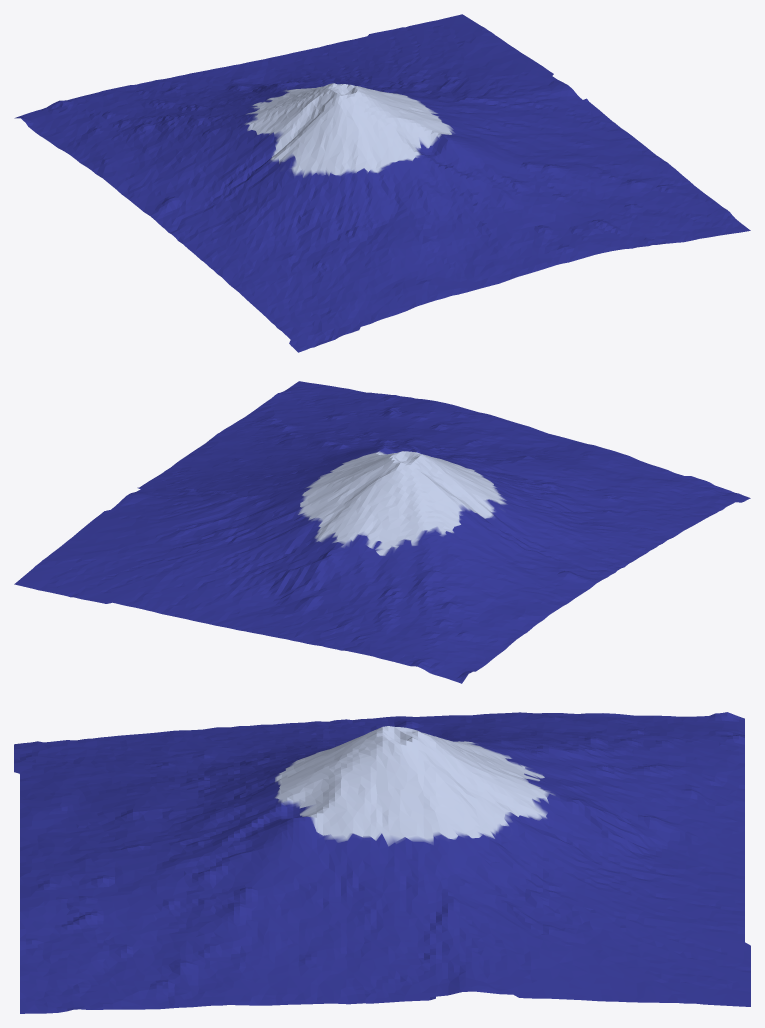
Rendered from mt_fuji.dae.
3 renders of one model, top to bottom at view 1: azimuth 30°, elevation 25°; view 2: azimuth 150°, elevation 25°; view 3: azimuth 270°, elevation 25°, orthographic. The views are drawn at different scales.
Parts seen in each view (by area): view 1: node; view 2: node; view 3: node.
Part boxes in pixels (box(x1,y1,x2,y2)): node: box(14, 14, 750, 352); node: box(14, 381, 750, 683); node: box(14, 712, 750, 1013).
Bounding box in the file's own units: 65.63 × 14.56 × 72.66.
1 material, 1 textured.
